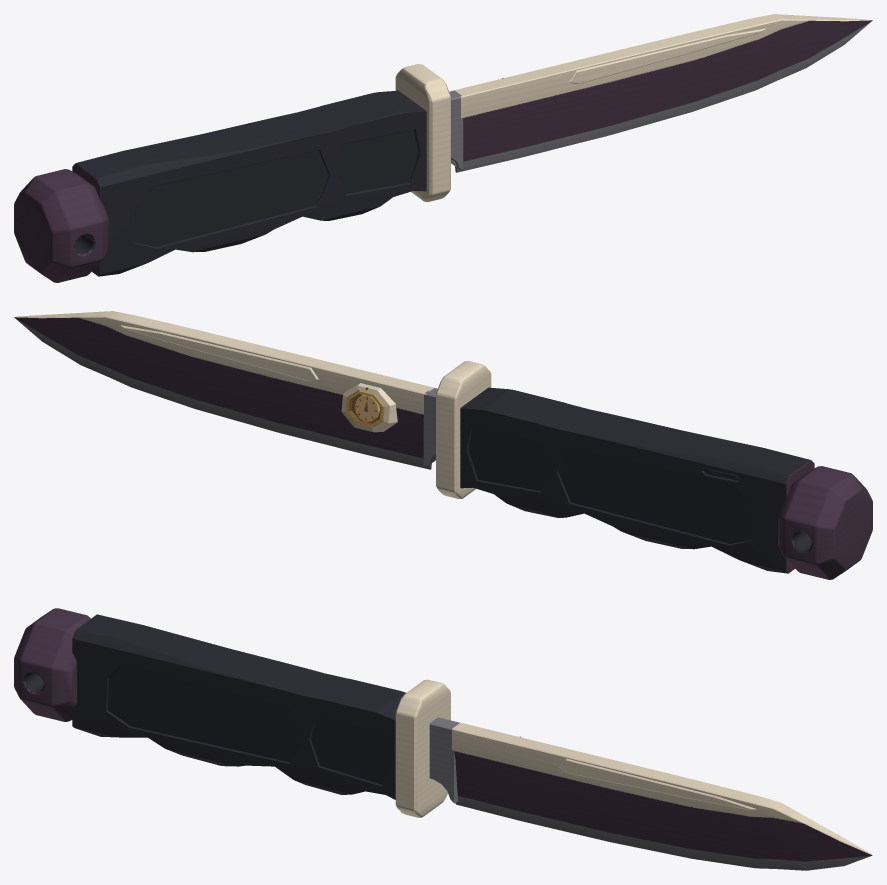
Rendered from Knife_Sundial_v01.fbx.
3 views of the same model, one above another, from view 1: azimuth 30°, elevation 25°; view 2: azimuth 150°, elevation 25°; view 3: azimuth 330°, elevation 25° (orthographic).
Parts seen in each view (by area): view 1: Knife_Hilt, Knife_Blade, Sundial_SpineFillet_R; view 2: Knife_Hilt, Knife_Blade, Sundial_SpineFillet_L, Sundial_PorcelainShoulder, Sundial_Dial, Sundial_BrassBezel; view 3: Knife_Hilt, Knife_Blade, Sundial_SpineFillet_R.
Boxes of the visible parts, x1=… form: Knife_Hilt: x1=14, y1=64, x2=450, y2=282; Knife_Blade: x1=449, y1=14, x2=872, y2=172; Sundial_SpineFillet_R: x1=568, y1=28, x2=765, y2=84; Knife_Hilt: x1=436, y1=361, x2=872, y2=579; Knife_Blade: x1=14, y1=311, x2=437, y2=469; Sundial_SpineFillet_L: x1=121, y1=325, x2=318, y2=381; Sundial_PorcelainShoulder: x1=341, y1=383, x2=397, y2=432; Sundial_Dial: x1=354, y1=395, x2=379, y2=421; Sundial_BrassBezel: x1=345, y1=390, x2=384, y2=427; Knife_Hilt: x1=14, y1=608, x2=450, y2=817; Knife_Blade: x1=429, y1=717, x2=872, y2=870; Sundial_SpineFillet_R: x1=558, y1=758, x2=756, y2=809.
Bounding box in the file's own units: 172 × 23.66 × 18.11.
10 materials, 10 textured.
